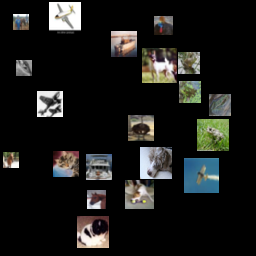airplane: (184, 158, 219, 193), (49, 2, 81, 34), (37, 91, 63, 117)
bird: (128, 115, 154, 141), (154, 16, 173, 35)
cat: (53, 151, 79, 177)
deer: (16, 60, 32, 76)
dog: (142, 48, 177, 83), (77, 216, 109, 248), (140, 147, 172, 179), (125, 180, 154, 209)
frog: (197, 119, 229, 151), (178, 52, 200, 74), (209, 94, 231, 116), (179, 81, 201, 103)
ship: (86, 154, 112, 180), (111, 31, 137, 57)
